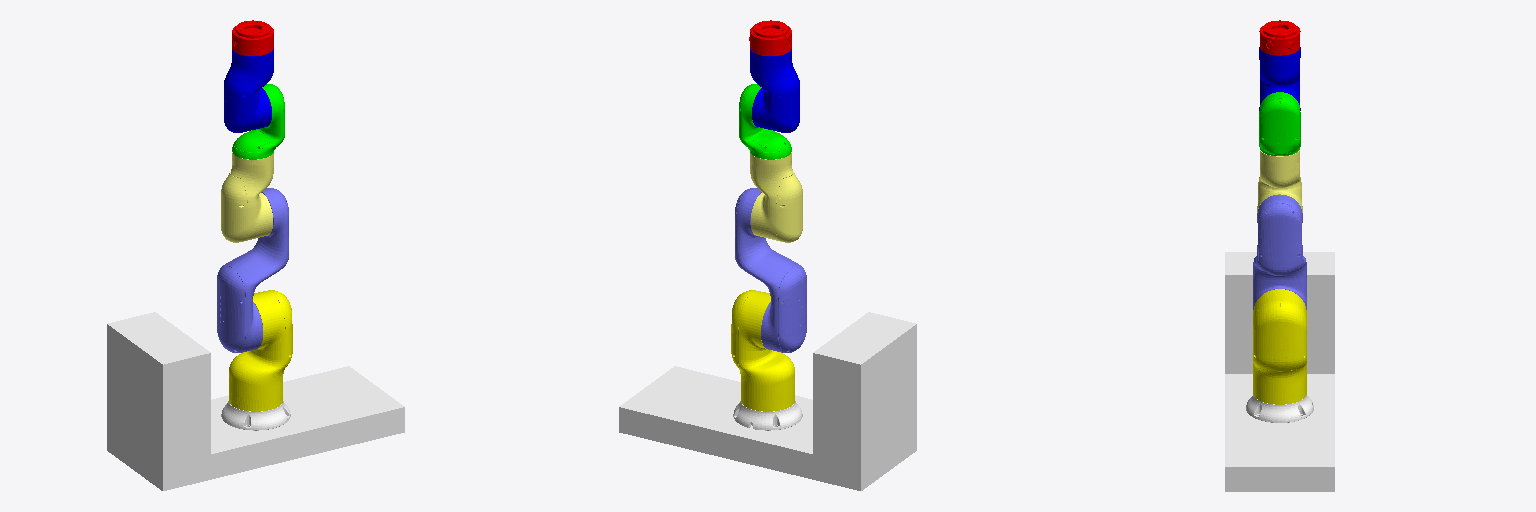
robot.urdf — jaka_description:
<?xml version="1.0" encoding="utf-8"?>
<!-- This URDF was automatically created by SolidWorks to URDF Exporter! Originally created by [author] ([email redacted]) 
     Commit Version: 1.6.0-4-g7f85cfe  Build Version: 1.6.7995.38578
     For more information, please see http://wiki.ros.org/sw_urdf_exporter -->
<robot
  name="jaka_description">
  <link
    name="base_link">
    <inertial>
      <origin
        xyz="-0.086342 -5.1644E-06 -0.00087443"
        rpy="0 0 0" />
      <mass
        value="9.2655" />
      <inertia
        ixx="0.079291"
        ixy="-1.6848E-11"
        ixz="0.055478"
        iyy="0.24556"
        iyz="-4.9044E-07"
        izz="0.22672" />
    </inertial>
    <visual>
      <origin
        xyz="0 0 0"
        rpy="0 0 0" />
      <geometry>
        <mesh
          filename="package://jaka_description/meshes/base_link.STL" />
      </geometry>
      <material
        name="">
        <color
          rgba="1 1 1 1" />
      </material>
    </visual>
    <collision>
      <origin
        xyz="0 0 0"
        rpy="0 0 0" />
      <geometry>
        <mesh
          filename="package://jaka_description/meshes/base_link.STL" />
      </geometry>
    </collision>
  </link>
  <link
    name="link_1">
    <inertial>
      <origin
        xyz="-0.061659 3.1055E-06 0.01341"
        rpy="0 0 0" />
      <mass
        value="1.3528" />
      <inertia
        ixx="0.0016731"
        ixy="2.7796E-07"
        ixz="-0.00069155"
        iyy="0.0055"
        iyz="4.2433E-07"
        izz="0.005432" />
    </inertial>
    <visual>
      <origin
        xyz="0 0 0"
        rpy="0 0 0" />
      <geometry>
        <mesh
          filename="package://jaka_description/meshes/link_1.STL" />
      </geometry>
      <material
        name="">
        <color
          rgba="1 1 0 1" />
      </material>
    </visual>
    <collision>
      <origin
        xyz="0 0 0"
        rpy="0 0 0" />
      <geometry>
        <mesh
          filename="package://jaka_description/meshes/link_1.STL" />
      </geometry>
    </collision>
  </link>
  <joint
    name="joint_1"
    type="revolute">
    <origin
      xyz="0 0 0.156"
      rpy="3.1416 -1.5708 0" />
    <parent
      link="base_link" />
    <child
      link="link_1" />
    <axis
      xyz="-1 0 0" />
    <limit
      lower="-6.28"
      upper="6.28"
      effort="0"
      velocity="3.14" />
  </joint>
  <link
    name="link_2">
    <inertial>
      <origin
        xyz="-0.11941 1.4566E-06 -0.0044194"
        rpy="0 0 0" />
      <mass
        value="1.137" />
      <inertia
        ixx="0.0021487"
        ixy="-4.2017E-07"
        ixz="-0.0025425"
        iyy="0.0081998"
        iyz="-1.7602E-07"
        izz="0.0072513" />
    </inertial>
    <visual>
      <origin
        xyz="0 0 0"
        rpy="0 0 0" />
      <geometry>
        <mesh
          filename="package://jaka_description/meshes/link_2.STL" />
      </geometry>
      <material
        name="">
        <color
          rgba="0.5 0.5 1 1" />
      </material>
    </visual>
    <collision>
      <origin
        xyz="0 0 0"
        rpy="0 0 0" />
      <geometry>
        <mesh
          filename="package://jaka_description/meshes/link_2.STL" />
      </geometry>
    </collision>
  </link>
  <joint
    name="joint_2"
    type="revolute">
    <origin
      xyz="0.21 0 -0.006"
      rpy="0 0 0" />
    <parent
      link="link_1" />
    <child
      link="link_2" />
    <axis
      xyz="0 0 -1" />
    <limit
      lower="-2.094"
      upper="2.094"
      effort="0"
      velocity="3.14" />
  </joint>
  <link
    name="link_3">
    <inertial>
      <origin
        xyz="-4.2161E-05 -0.012483 0.042186"
        rpy="0 0 0" />
      <mass
        value="0.81108" />
      <inertia
        ixx="0.0022135"
        ixy="8.8413E-07"
        ixz="-1.5943E-06"
        iyy="0.0021173"
        iyz="-0.0002249"
        izz="0.0007026" />
    </inertial>
    <visual>
      <origin
        xyz="0 0 0"
        rpy="0 0 0" />
      <geometry>
        <mesh
          filename="package://jaka_description/meshes/link_3.STL" />
      </geometry>
      <material
        name="">
        <color
          rgba="1 1 0.5 1" />
      </material>
    </visual>
    <collision>
      <origin
        xyz="0 0 0"
        rpy="0 0 0" />
      <geometry>
        <mesh
          filename="package://jaka_description/meshes/link_3.STL" />
      </geometry>
    </collision>
  </link>
  <joint
    name="joint_3"
    type="revolute">
    <origin
      xyz="0 0 0"
      rpy="1.5708 0 1.5708" />
    <parent
      link="link_2" />
    <child
      link="link_3" />
    <axis
      xyz="0 1 0" />
    <limit
      lower="-2.1816"
      upper="2.1816"
      effort="0"
      velocity="3.14" />
  </joint>
  <link
    name="link_4">
    <inertial>
      <origin
        xyz="-2.9798E-06 0.034927 0.025942"
        rpy="0 0 0" />
      <mass
        value="0.30891" />
      <inertia
        ixx="0.00048581"
        ixy="1.6836E-08"
        ixz="4.2165E-09"
        iyy="0.00023488"
        iyz="0.00011076"
        izz="0.00046628" />
    </inertial>
    <visual>
      <origin
        xyz="0 0 0"
        rpy="0 0 0" />
      <geometry>
        <mesh
          filename="package://jaka_description/meshes/link_4.STL" />
      </geometry>
      <material
        name="">
        <color
          rgba="0 1 0 1" />
      </material>
    </visual>
    <collision>
      <origin
        xyz="0 0 0"
        rpy="0 0 0" />
      <geometry>
        <mesh
          filename="package://jaka_description/meshes/link_4.STL" />
      </geometry>
    </collision>
  </link>
  <joint
    name="joint_4"
    type="revolute">
    <origin
      xyz="0 0 0.2105"
      rpy="-1.5708 0 0" />
    <parent
      link="link_3" />
    <child
      link="link_4" />
    <axis
      xyz="0 -1 0" />
    <limit
      lower="-6.28"
      upper="6.28"
      effort="0"
      velocity="3.14" />
  </joint>
  <link
    name="link_5">
    <inertial>
      <origin
        xyz="-2.3325E-06 -0.010254 0.04455"
        rpy="0 0 0" />
      <mass
        value="0.69155" />
      <inertia
        ixx="0.0016771"
        ixy="3.1763E-08"
        ixz="8.9452E-08"
        iyy="0.0016077"
        iyz="-0.0001648"
        izz="0.00053614" />
    </inertial>
    <visual>
      <origin
        xyz="0 0 0"
        rpy="0 0 0" />
      <geometry>
        <mesh
          filename="package://jaka_description/meshes/link_5.STL" />
      </geometry>
      <material
        name="">
        <color
          rgba="0 0 1 1" />
      </material>
    </visual>
    <collision>
      <origin
        xyz="0 0 0"
        rpy="0 0 0" />
      <geometry>
        <mesh
          filename="package://jaka_description/meshes/link_5.STL" />
      </geometry>
    </collision>
  </link>
  <joint
    name="joint_5"
    type="revolute">
    <origin
      xyz="0 0 0"
      rpy="1.5708 0 0" />
    <parent
      link="link_4" />
    <child
      link="link_5" />
    <axis
      xyz="0 1 0" />
    <limit
      lower="-2.094"
      upper="2.094"
      effort="0"
      velocity="3.14" />
  </joint>
  <link
    name="link_6">
    <inertial>
      <origin
        xyz="1.7982E-05 3.7404E-05 0.018707"
        rpy="0 0 0" />
      <mass
        value="0.14776" />
      <inertia
        ixx="6.6405E-05"
        ixy="-7.4567E-08"
        ixz="-6.802E-08"
        iyy="6.8151E-05"
        iyz="1.0046E-07"
        izz="0.00010394" />
    </inertial>
    <visual>
      <origin
        xyz="0 0 0"
        rpy="0 0 0" />
      <geometry>
        <mesh
          filename="package://jaka_description/meshes/link_6.STL" />
      </geometry>
      <material
        name="">
        <color
          rgba="1 0 0 1" />
      </material>
    </visual>
    <collision>
      <origin
        xyz="0 0 0"
        rpy="0 0 0" />
      <geometry>
        <mesh
          filename="package://jaka_description/meshes/link_6.STL" />
      </geometry>
    </collision>
  </link>
  <joint
    name="joint_6"
    type="revolute">
    <origin
      xyz="0 0 0.1203"
      rpy="0 0 0" />
    <parent
      link="link_5" />
    <child
      link="link_6" />
    <axis
      xyz="0 0 1" />
    <limit
      lower="-6.28"
      upper="6.28"
      effort="0"
      velocity="3.14" />
  </joint>
</robot>

--- What the picture shows (computed from the rendered views, not written in the file) ---
The picture shows the robot from 3 angles, left to right: view 1: azimuth 30°, elevation 25°; view 2: azimuth 150°, elevation 25°; view 3: azimuth 270°, elevation 25°; orthographic projection.
Model jaka_description with 7 links and 6 joints (6 revolute), rooted at base_link, posed every joint at zero.
Visible links, largest first — view 1: base_link, link_2, link_1, link_3, link_5, link_4, link_6; view 2: base_link, link_2, link_1, link_3, link_5, link_4, link_6; view 3: base_link, link_1, link_2, link_4, link_3, link_5, link_6.
Link boxes in pixels (x1,y1,x2,y2): base_link: (107, 312, 404, 490); link_2: (217, 188, 288, 352); link_1: (229, 290, 292, 411); link_3: (221, 152, 273, 242); link_5: (224, 49, 273, 132); link_4: (232, 84, 284, 159); link_6: (232, 20, 273, 55); base_link: (619, 312, 916, 490); link_2: (735, 188, 806, 352); link_1: (731, 290, 794, 411); link_3: (750, 152, 802, 242); link_5: (750, 49, 799, 132); link_4: (739, 84, 791, 159); link_6: (749, 20, 791, 55); base_link: (1225, 252, 1334, 491); link_1: (1253, 289, 1306, 404); link_2: (1253, 195, 1306, 309); link_4: (1259, 92, 1300, 155); link_3: (1257, 150, 1302, 212); link_5: (1259, 47, 1300, 110); link_6: (1259, 20, 1300, 55).
Size in the robot's own frame: 0.5 by 0.2 by 0.8168 metres.
Meshes: 7 distinct files referenced, 7 mesh visuals loaded (7 binary STL).
